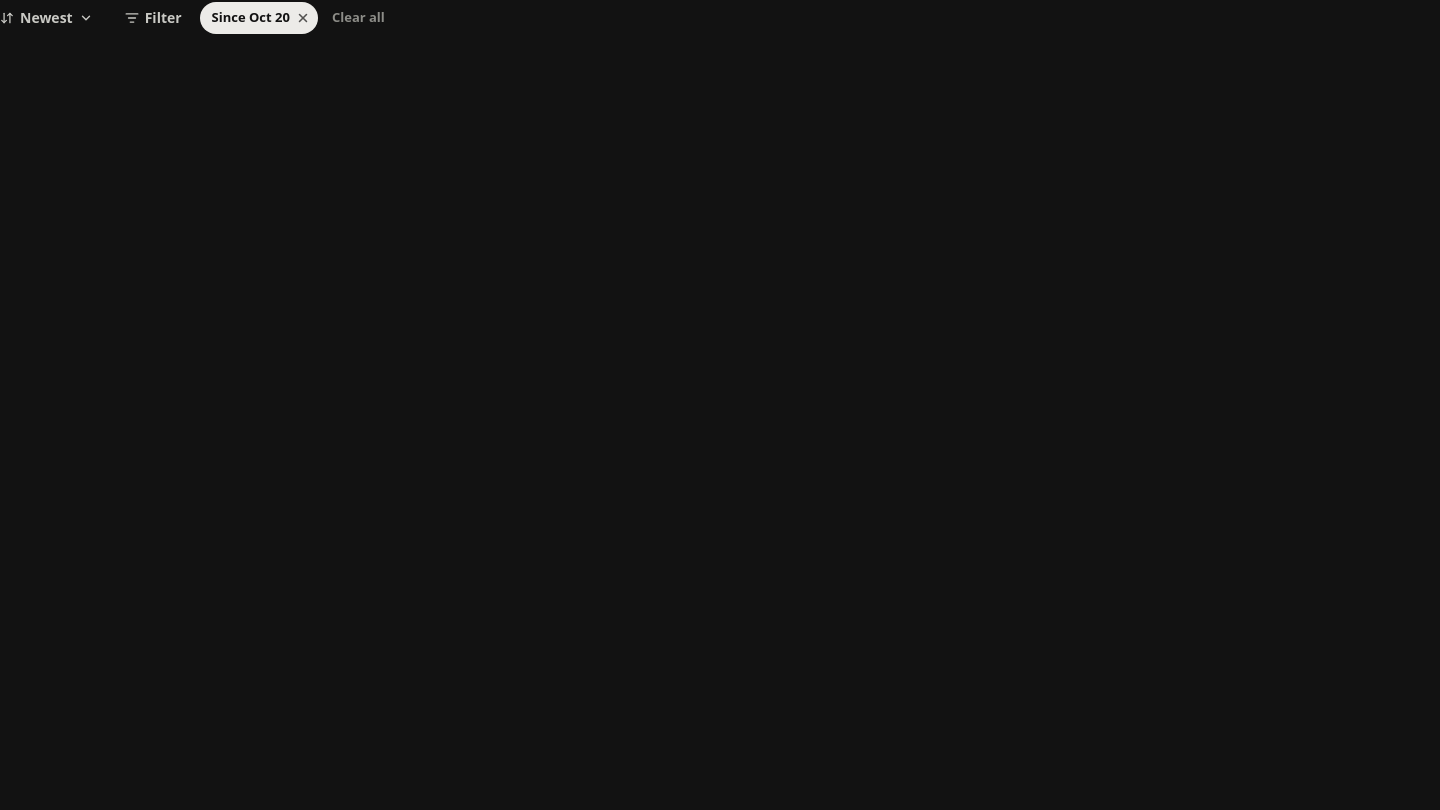
Test case: FilterBar › holds back a reversed date range with a message
Click the button "Filter".
click(153, 18)  # box [111,0,196,36]
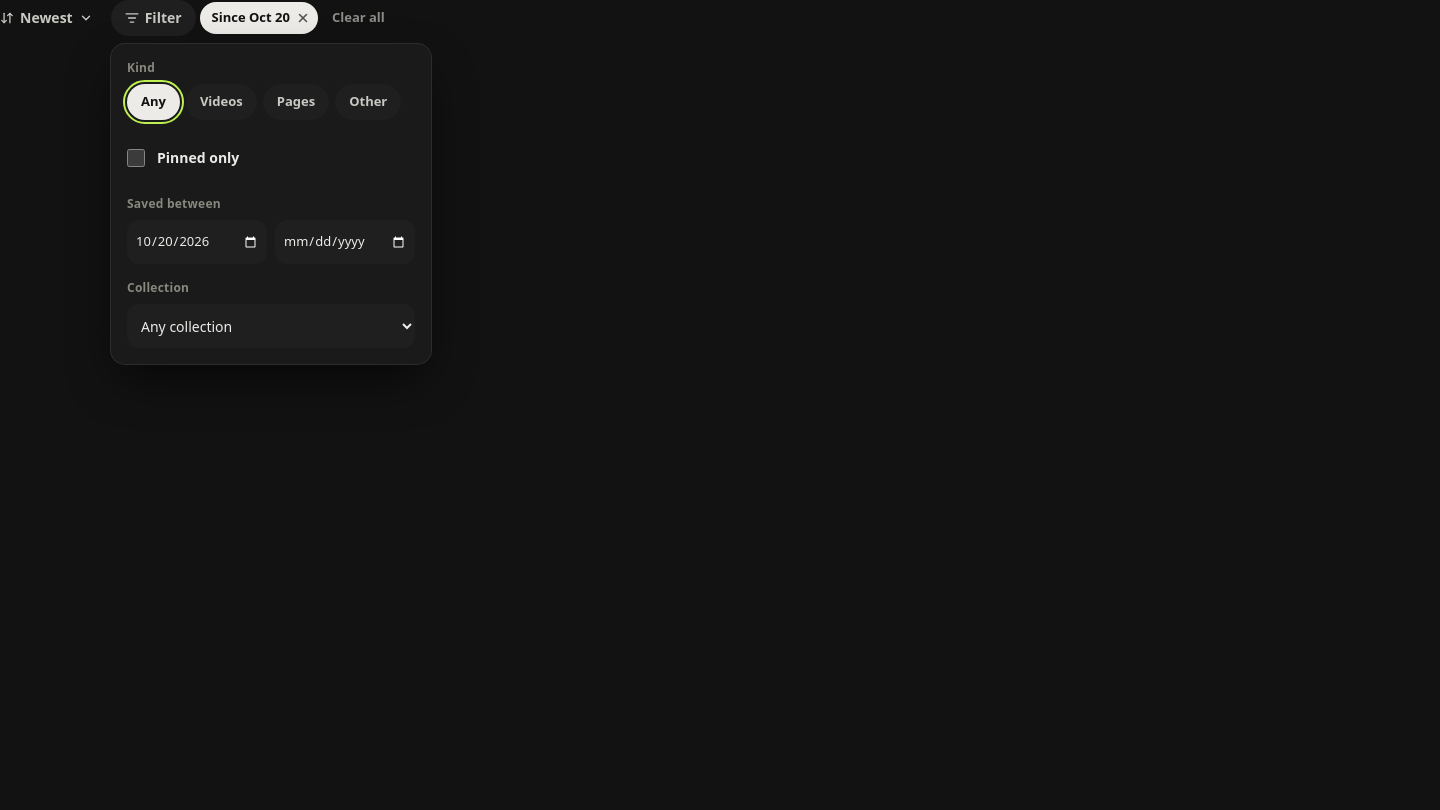
Type "2026-10-01" into the date field named "To".
click(345, 242); type("2026-10-01")  # box [275,220,415,264]
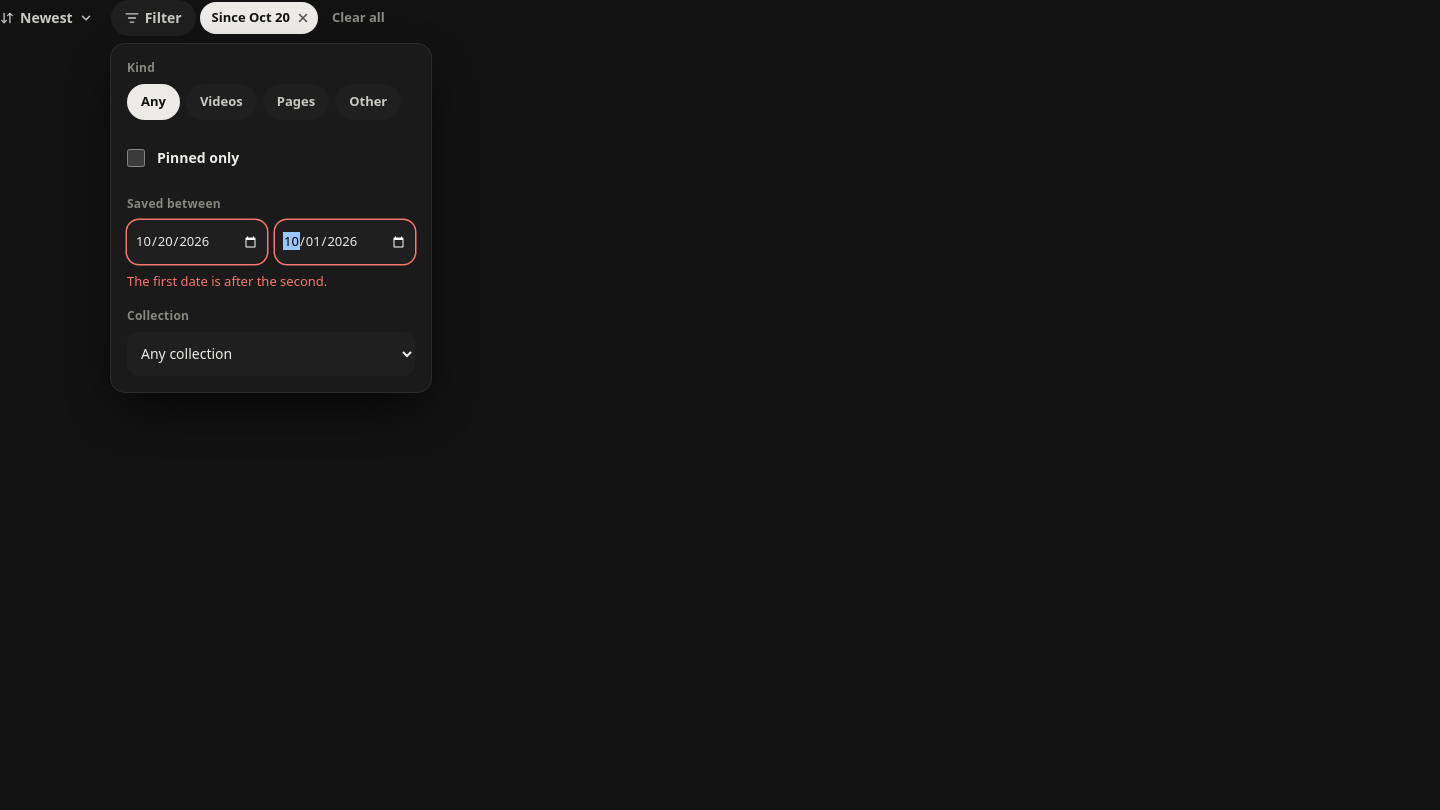
Expected: the message reads "The first date is after the second.", [127,272,327,290]
